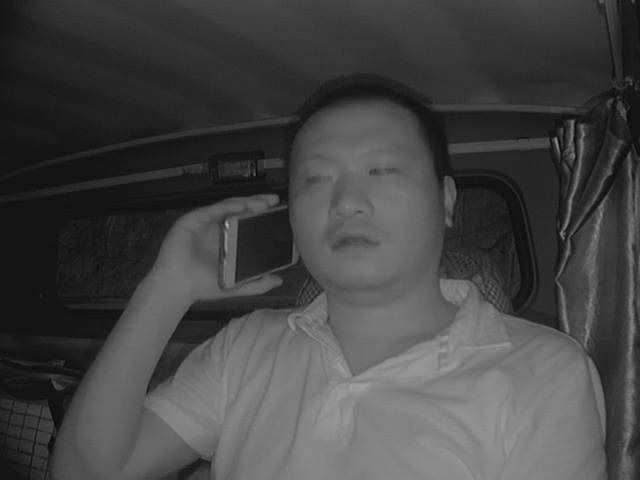hand: (159, 190, 282, 304)
